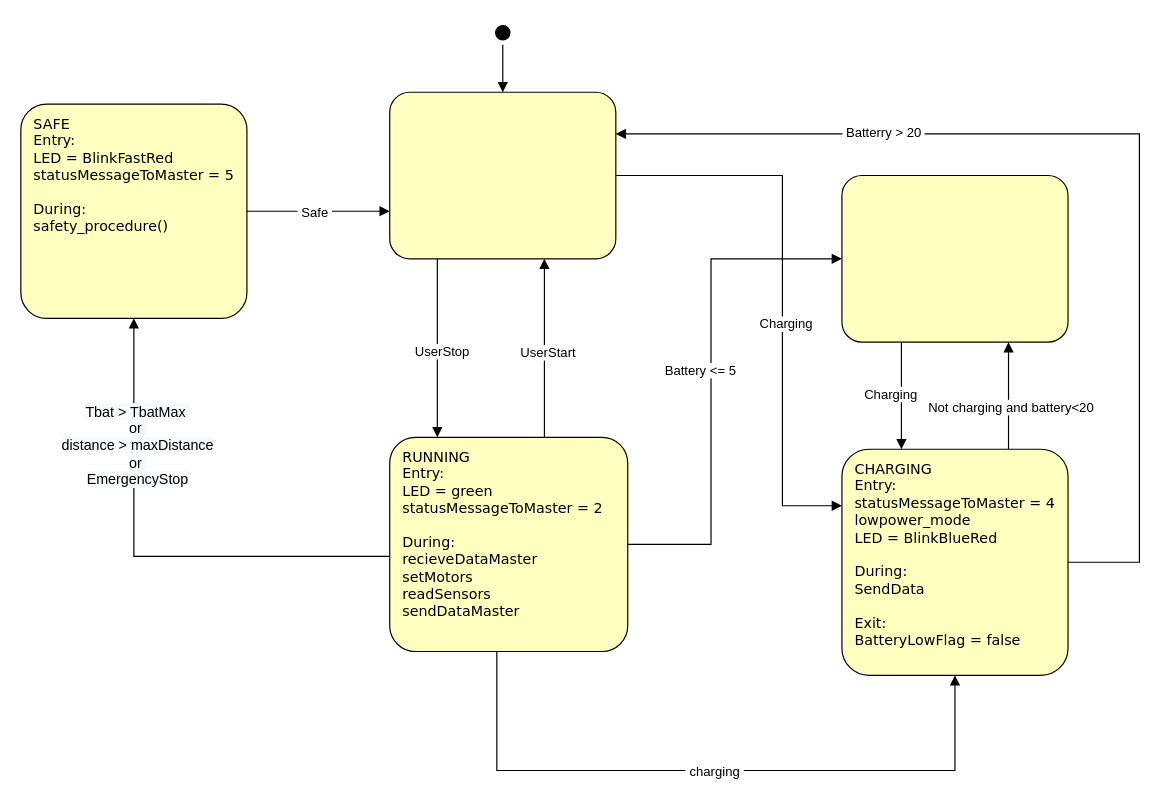
This 1170x801 diagram has some shape labels left out. The box of each missing label's shape, as (x1, y1, x2, y2) in pixels:
BATTERYLOW Entry: statusMessageToMaster = 3 lowpower_mode LED = RED: (841, 174, 1068, 342)
READY Entry: LED = BlinkSlowBLue Init statusMessageToMaster = 1: (389, 91, 616, 259)
